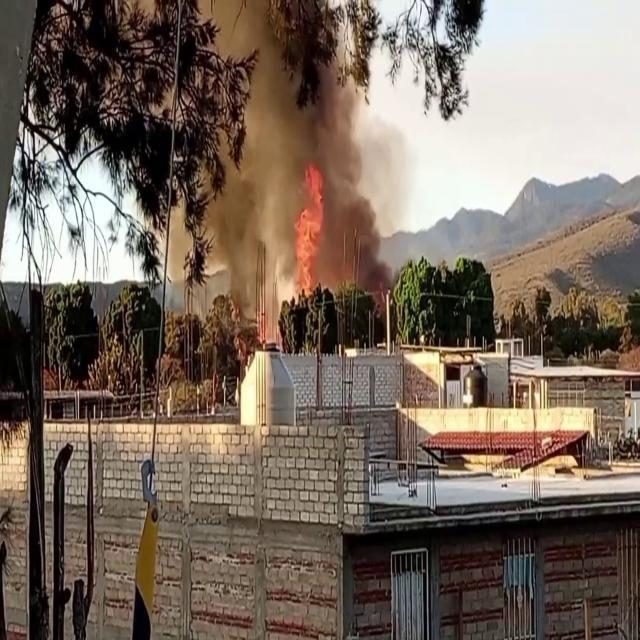Fire: (289, 162, 330, 298), (236, 338, 276, 441)
Smoke: (208, 1, 406, 299)
